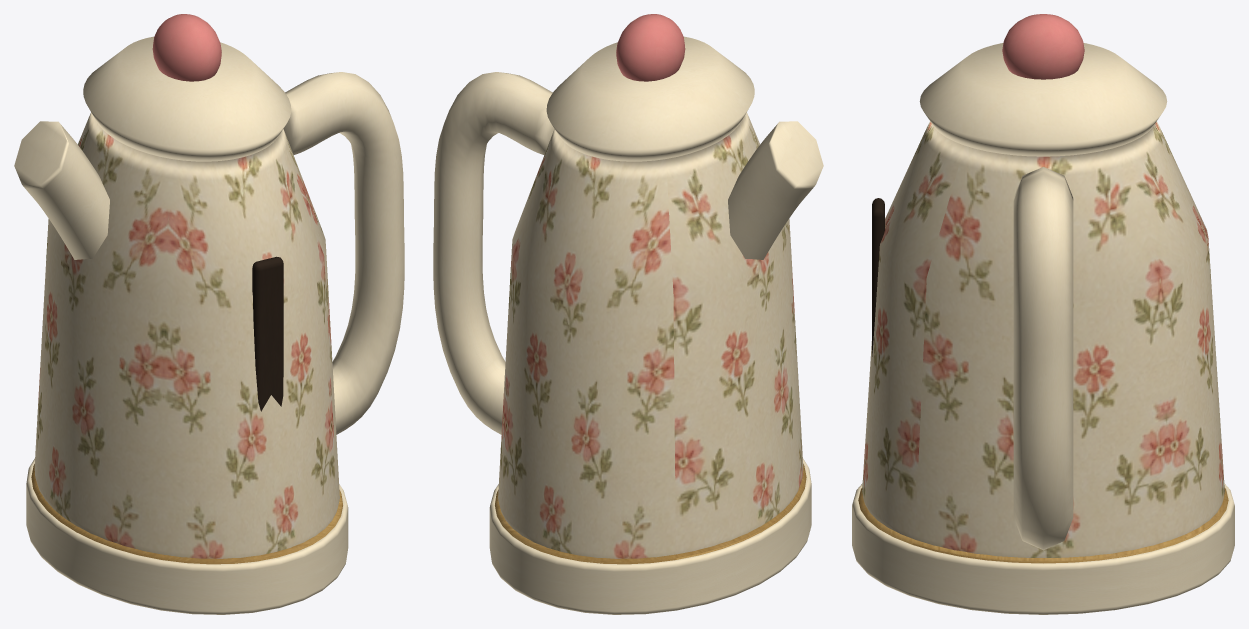
The model's file is SM_InteriorAdditions_ElectricKettle.fbx.
3 renders of one model, left to right at view 1: azimuth 30°, elevation 25°; view 2: azimuth 150°, elevation 25°; view 3: azimuth 270°, elevation 25°, orthographic. The views are drawn at different scales.
Parts seen in each view (by area): view 1: SM_InteriorAdditions_ElectricKettle; view 2: SM_InteriorAdditions_ElectricKettle; view 3: SM_InteriorAdditions_ElectricKettle.
Boxes of the visible parts, x1,y1,x2,y2 form: SM_InteriorAdditions_ElectricKettle: (14,14,404,614); SM_InteriorAdditions_ElectricKettle: (433,14,823,614); SM_InteriorAdditions_ElectricKettle: (852,14,1234,614).
Size of what is drawn, in the model's own units: 28 by 24 by 37.
